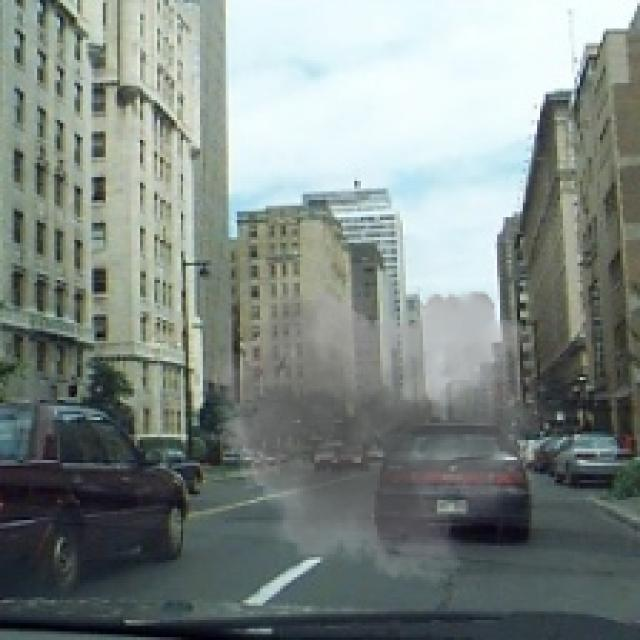Smoke: (197, 211, 549, 600)
